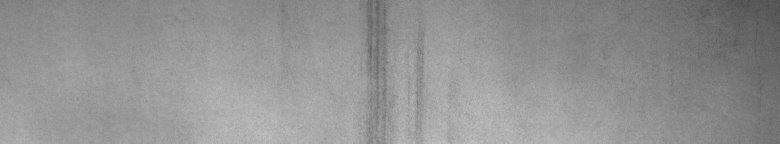ka: (364, 4, 422, 119)
